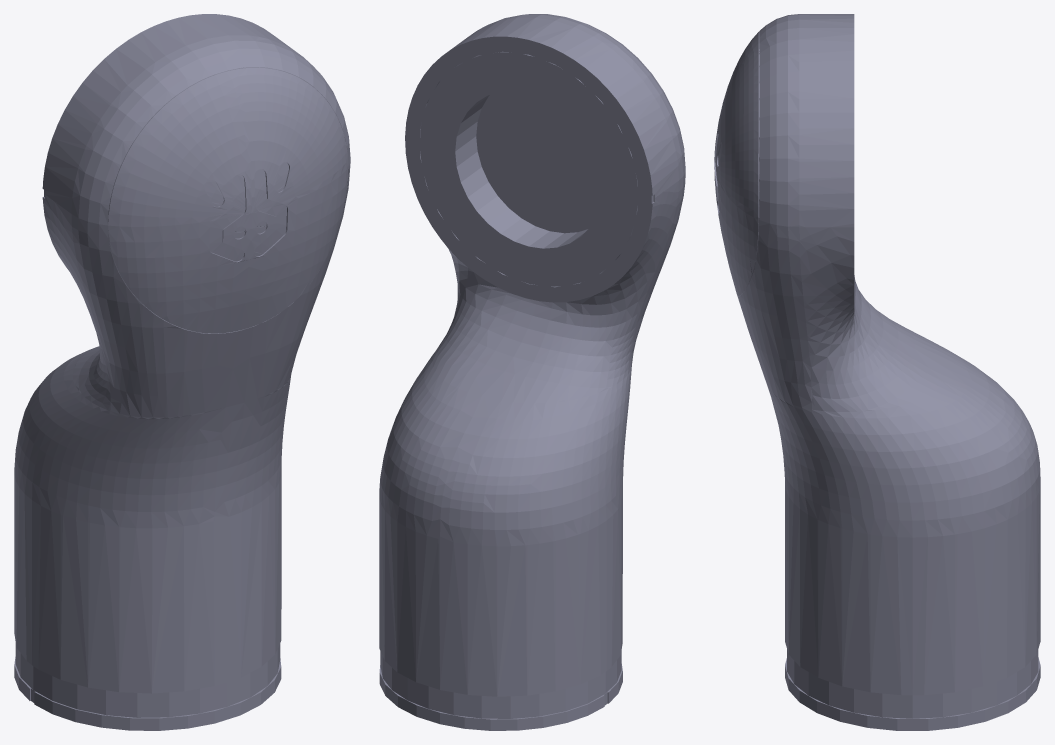
The model's file is arm1_link4_visuals.obj.
3 renders of one model, left to right at view 1: azimuth 30°, elevation 25°; view 2: azimuth 150°, elevation 25°; view 3: azimuth 270°, elevation 25°, orthographic. The views are drawn at different scales.
Size of the model in its own units: 0.068 by 0.1625 by 0.074.
